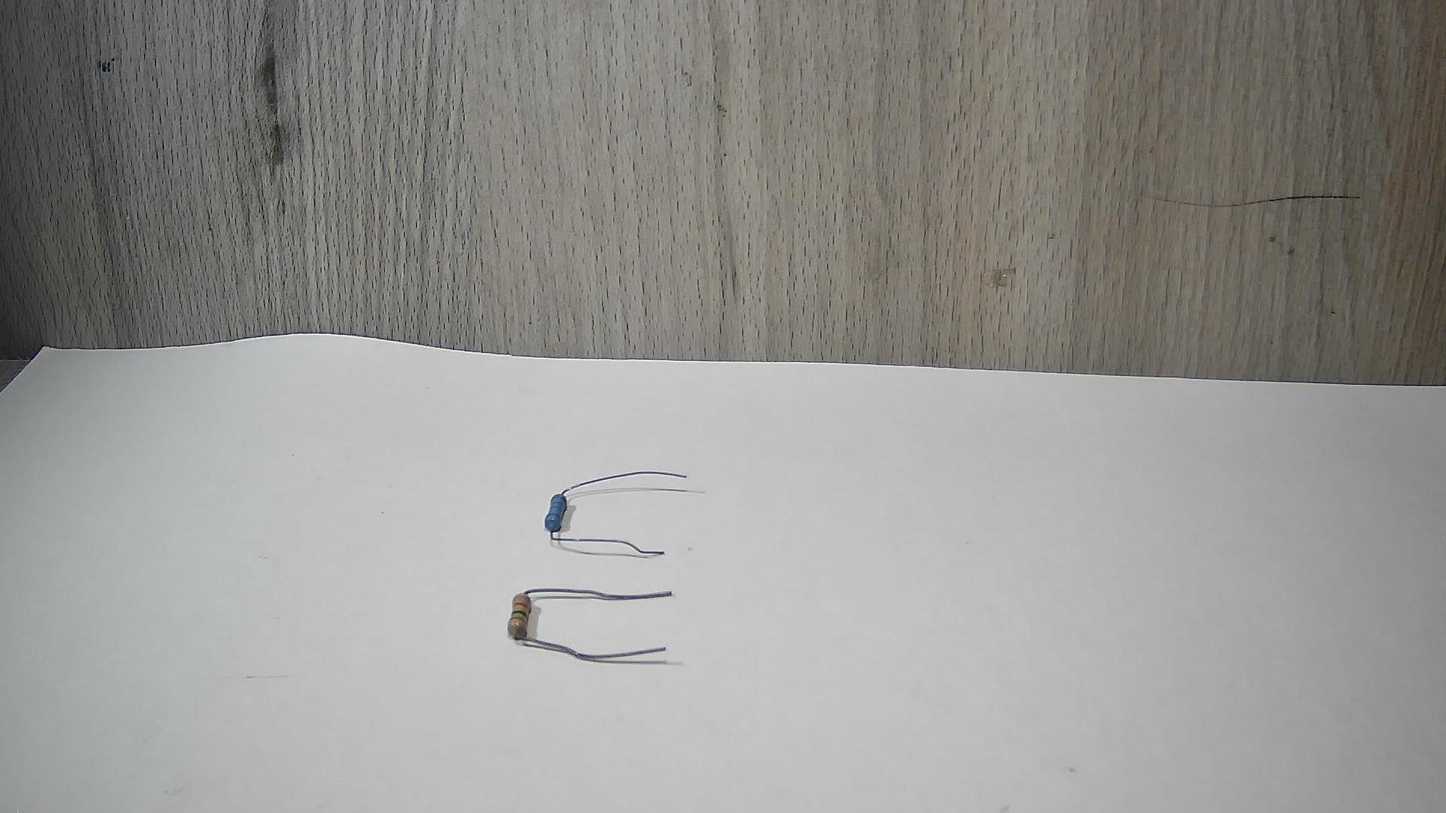Resistencia: (489, 566, 691, 692), (512, 450, 713, 569)
